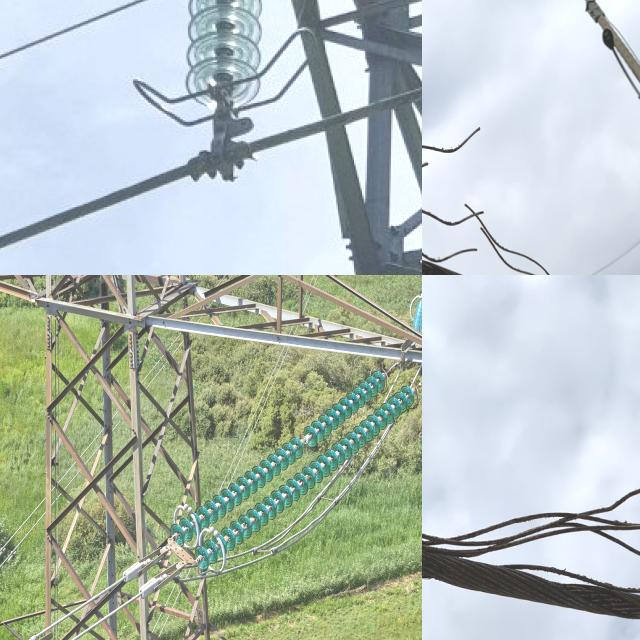杆塔: (28, 275, 225, 640), (233, 0, 422, 275)
正常绝缘子: (159, 361, 422, 575), (166, 0, 272, 180), (405, 288, 422, 340)
电缆破损: (422, 100, 640, 275), (438, 479, 640, 640)
绝缘子破损: (299, 433, 310, 449)
